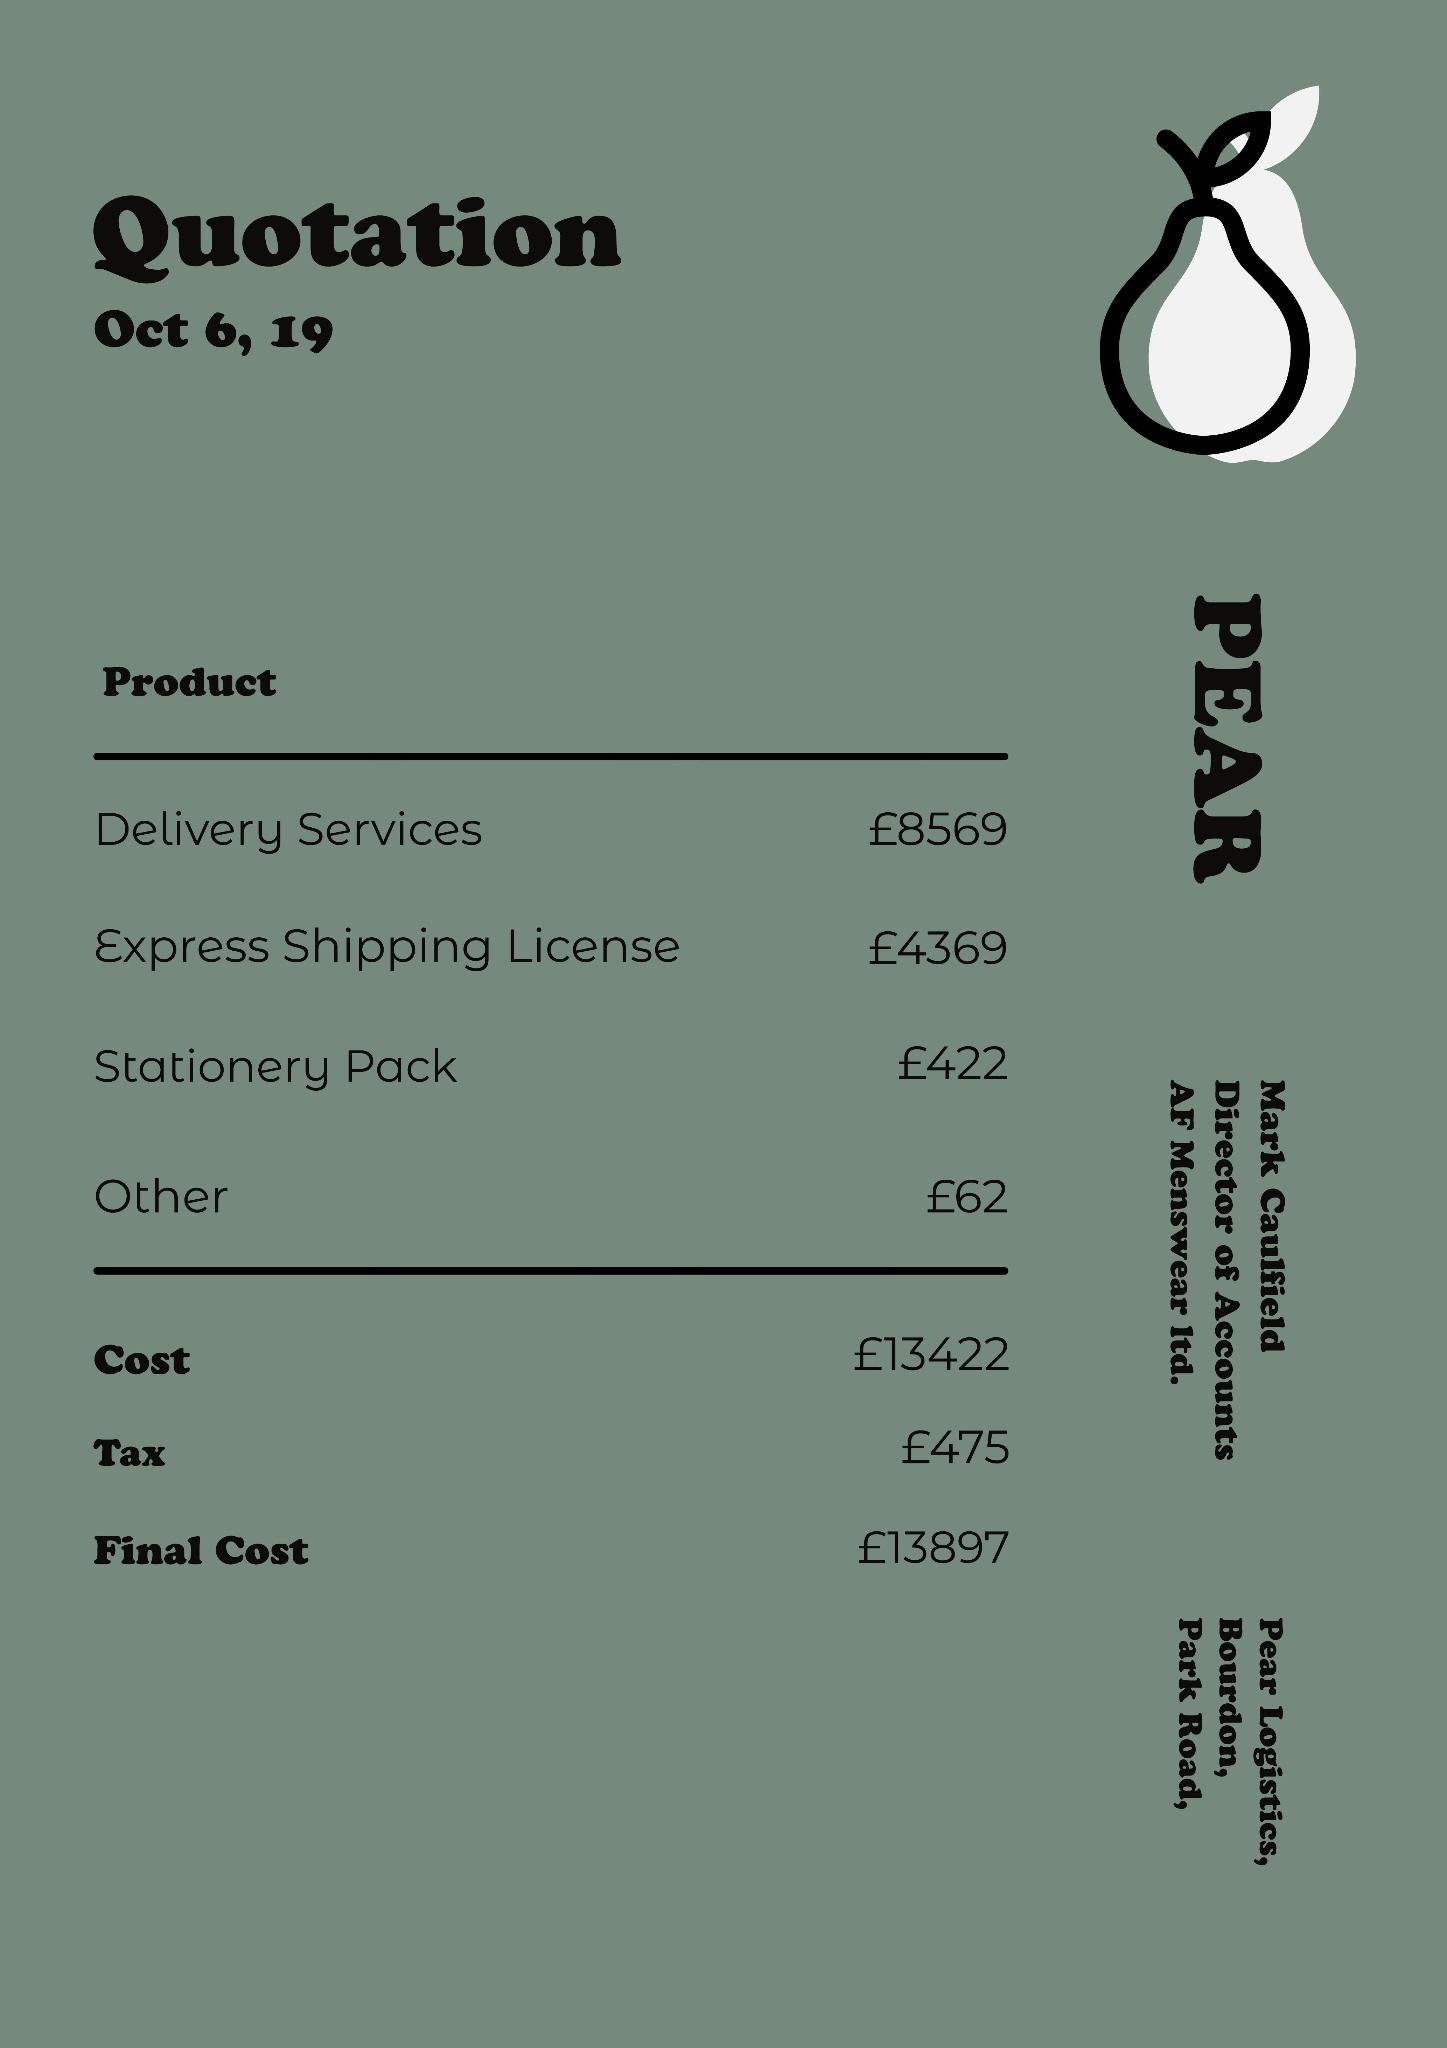ROI: (41, 597, 1060, 1246), (67, 1315, 1034, 1635), (1054, 64, 1416, 482), (1132, 986, 1372, 1502), (1132, 1581, 1369, 1927), (50, 168, 662, 290), (1131, 559, 1334, 894), (67, 304, 370, 370)
